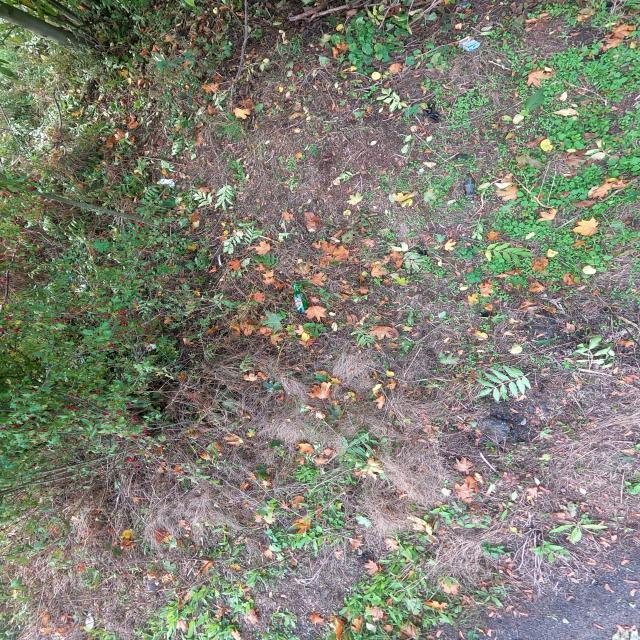rubbish: (434, 219, 479, 233), (588, 347, 623, 359), (602, 120, 615, 132)
